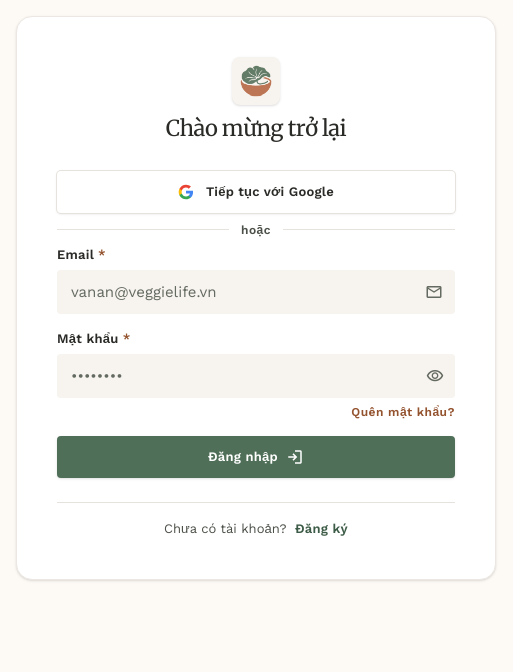
Test: LoginPage (SCR-01) › 401 hiển thị số lần thử còn lại do server trả
Type "an@x.vn" into the field labelled "Email *". click: point(256, 292)
box: [57, 270, 455, 314]
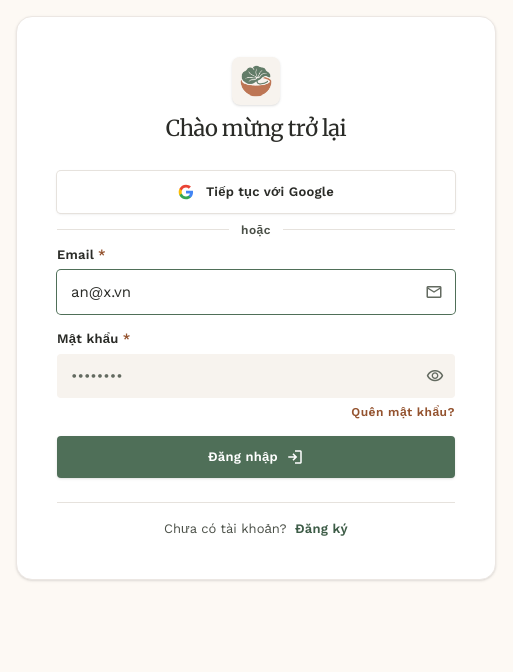
Type "Veggie@2026" into the password field labelled "Mật khẩu *". click: point(256, 376)
box: [57, 354, 455, 398]
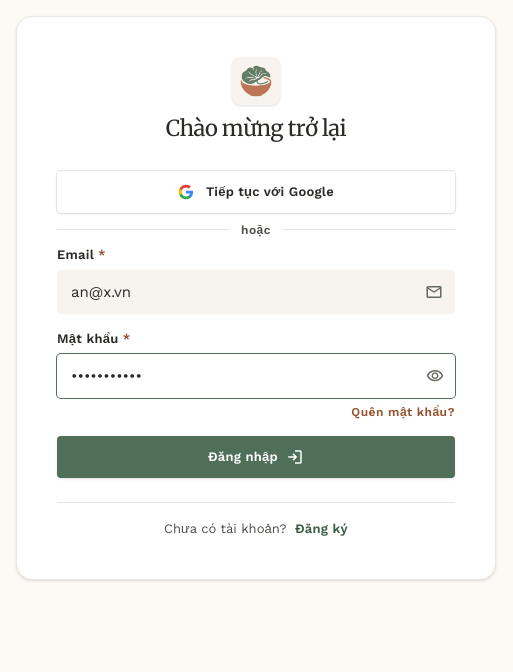
Click the button "Đăng nhập". click: point(256, 457)
box: [57, 436, 455, 478]
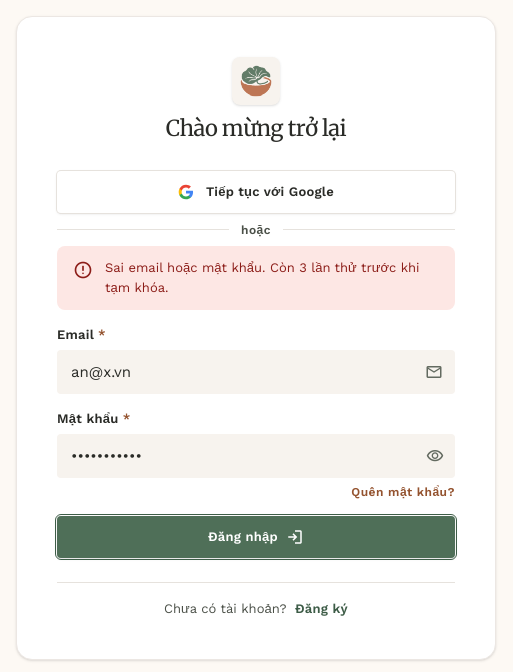
Expected: the text "Sai email hoặc mật khẩu. Còn 3 lần thử trước khi tạm khóa." is shown, [105, 258, 439, 298]
